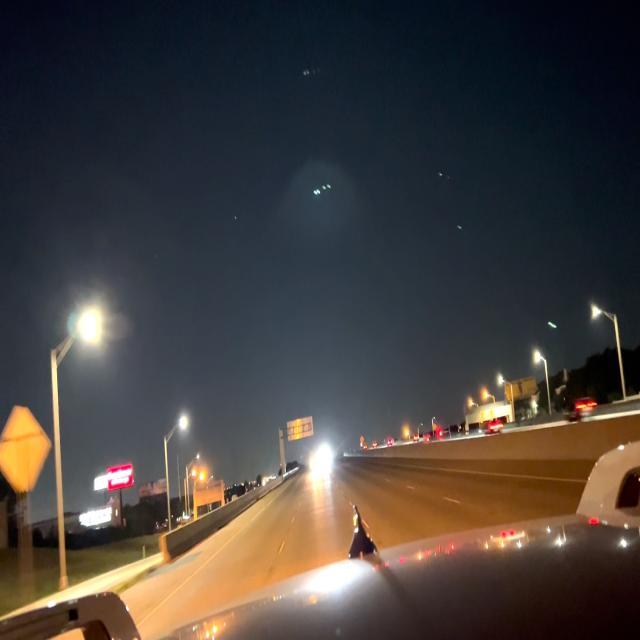back-of-sign: (0, 406, 51, 495)
